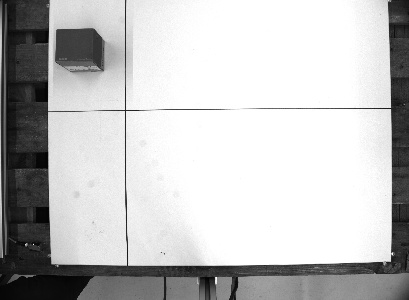b7: (52, 25, 106, 74)
